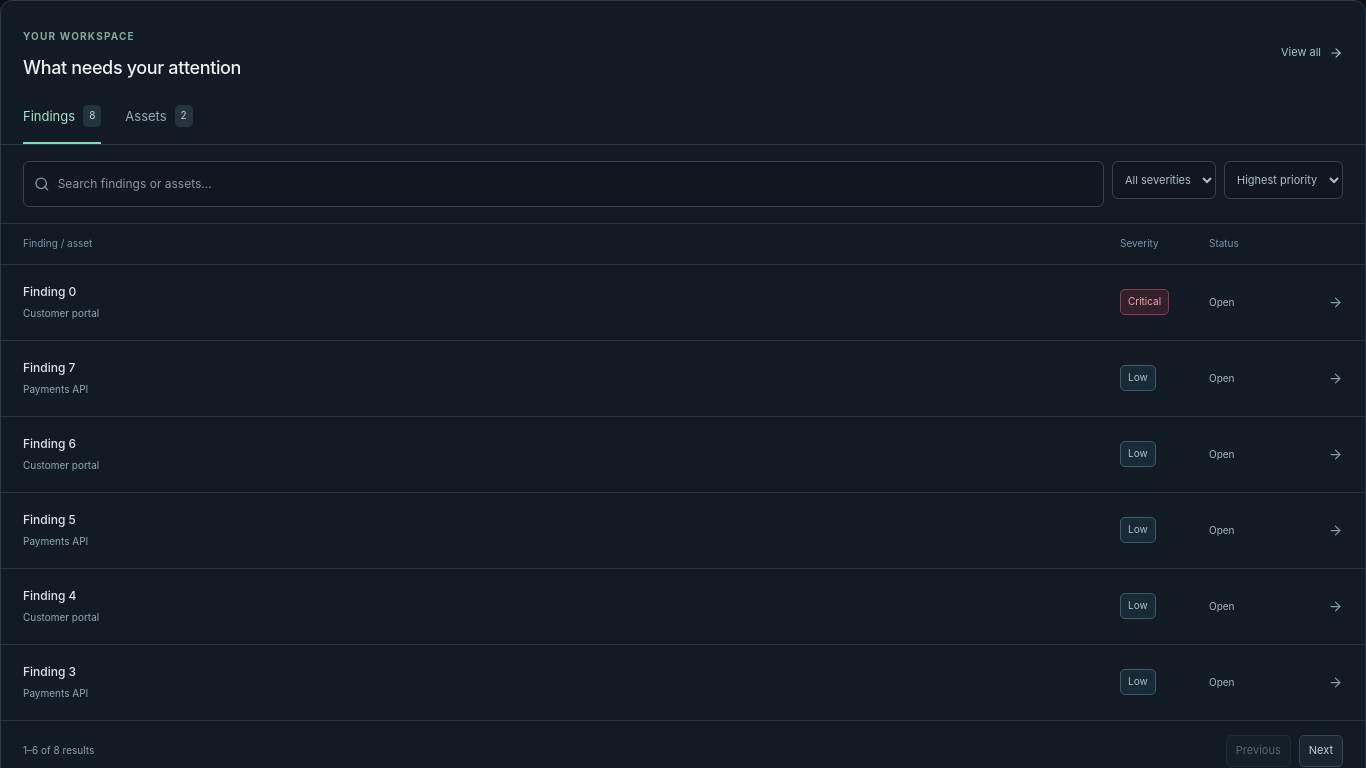
Scenario: DashboardWorkbench › combines search and severity filters, preserving a real finding destination
The width and height of the screenshot is (1366, 768).
Select "Critical" in the dropdown named "Severity" at (1164, 180), box [1112, 161, 1216, 199]
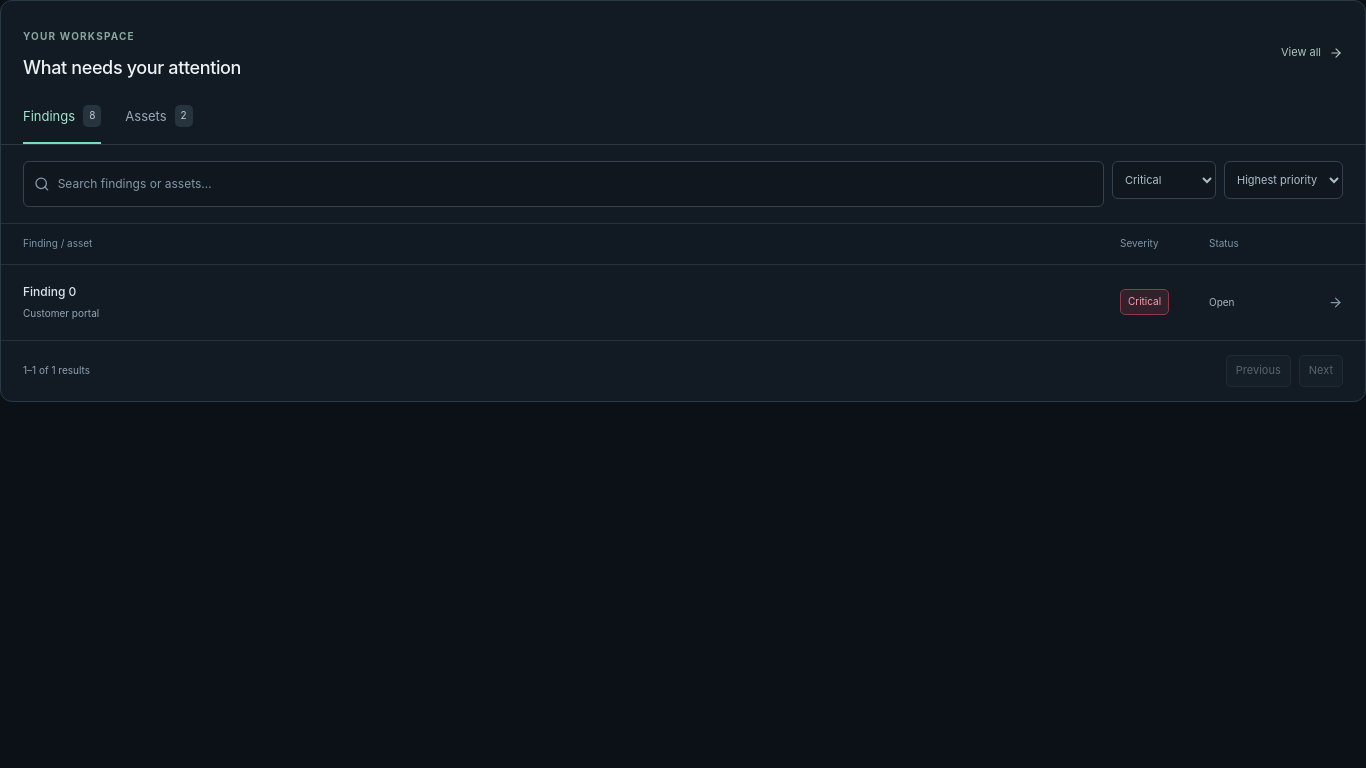
Result: the message reads "1–1 of 1 results" at [23, 364, 90, 376]
Type "Payments" into the field named "Search work queue" at (575, 184), box [58, 162, 1093, 206]
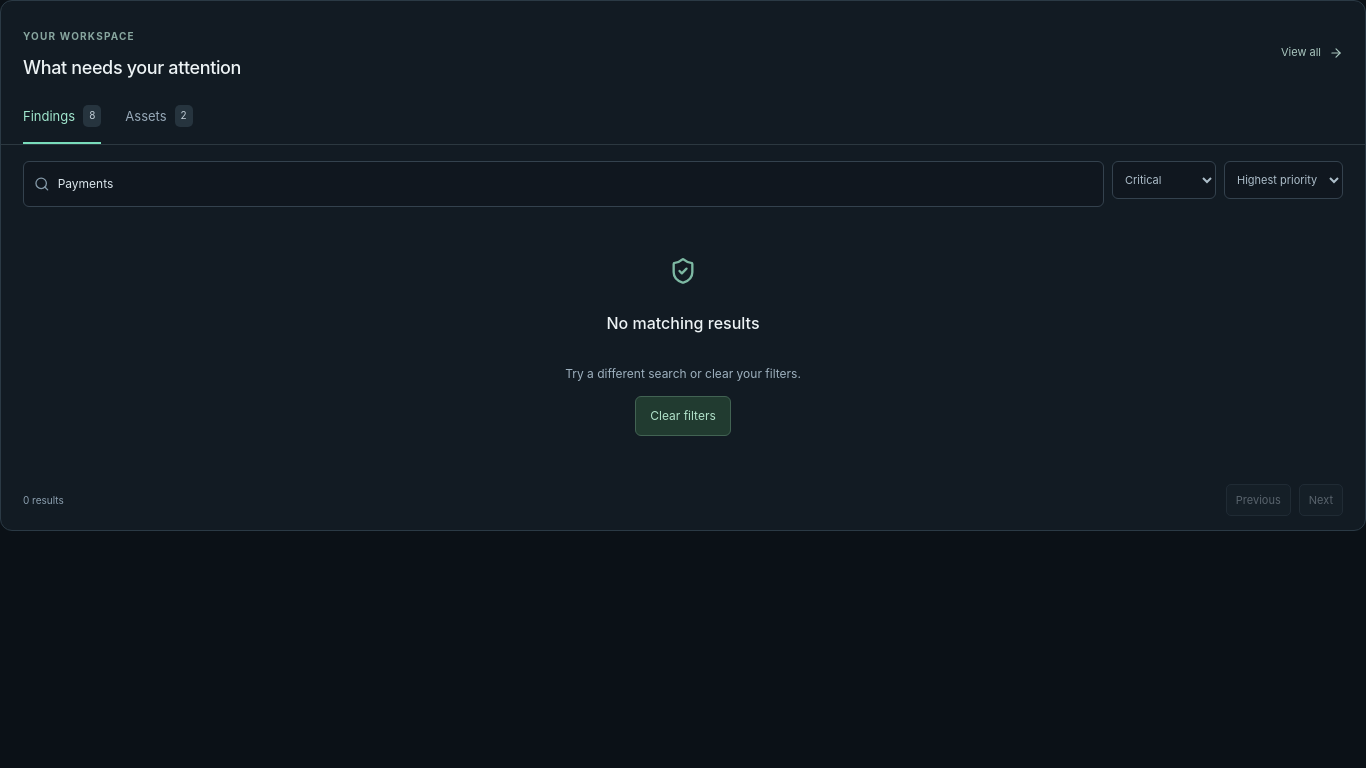
Result: the heading "No matching results" is shown at [606, 311, 760, 336]
